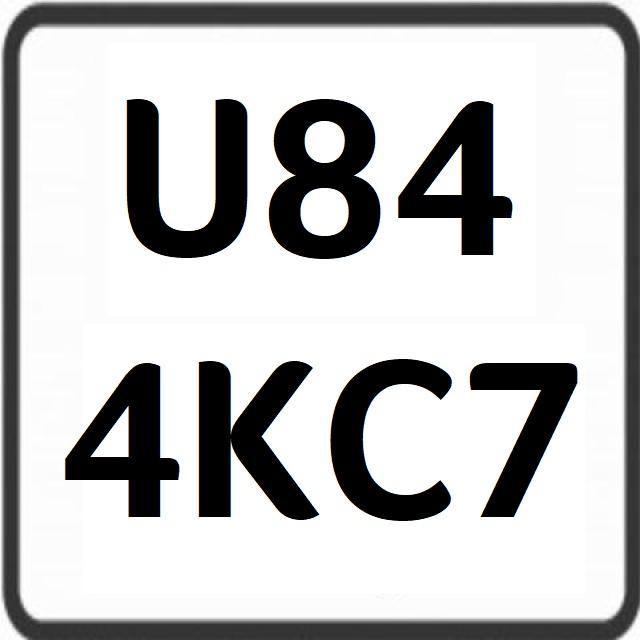4: (393, 73, 514, 271)
7: (478, 333, 588, 534)
8: (266, 74, 383, 269)
C: (324, 344, 457, 537)
K: (197, 336, 320, 532)
U: (118, 70, 257, 266)
